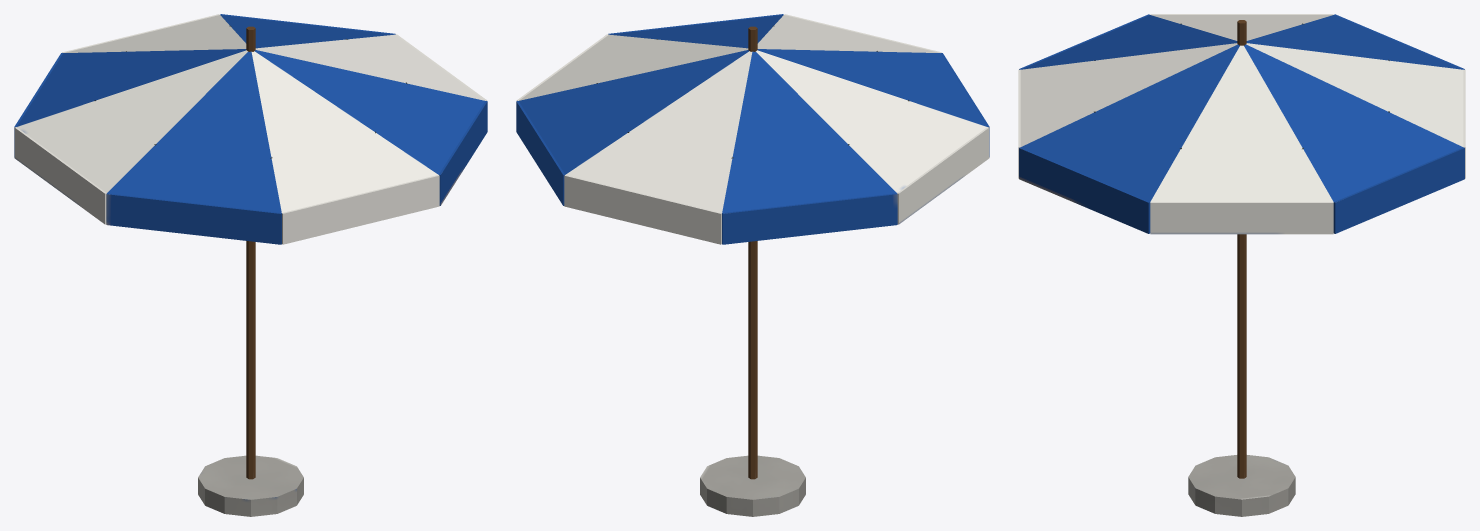
The model's file is slunecnik_d706c753.glb.
The picture shows the model from 3 angles, left to right: view 1: azimuth 30°, elevation 25°; view 2: azimuth 150°, elevation 25°; view 3: azimuth 270°, elevation 25°; orthographic projection.
Visible parts, largest first — view 1: dum; view 2: dum; view 3: dum.
Boxes of the visible parts, bbox=[...] form: dum: bbox=[14, 14, 487, 516]; dum: bbox=[516, 14, 989, 516]; dum: bbox=[1018, 14, 1465, 516].
Size of the model in its own units: 2.33 by 2.71 by 2.33.
1 material, 1 textured.
